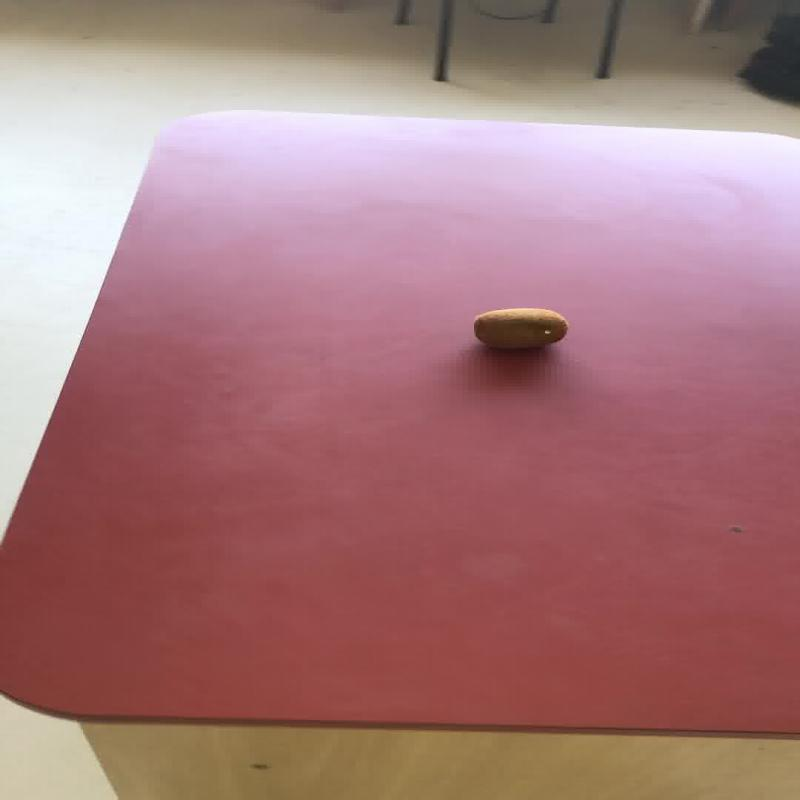kiwi: (472, 307, 568, 349)
